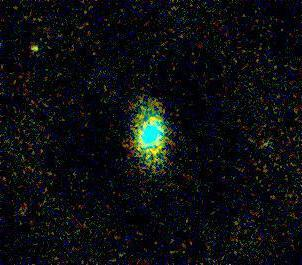star: (20, 33, 50, 63)
